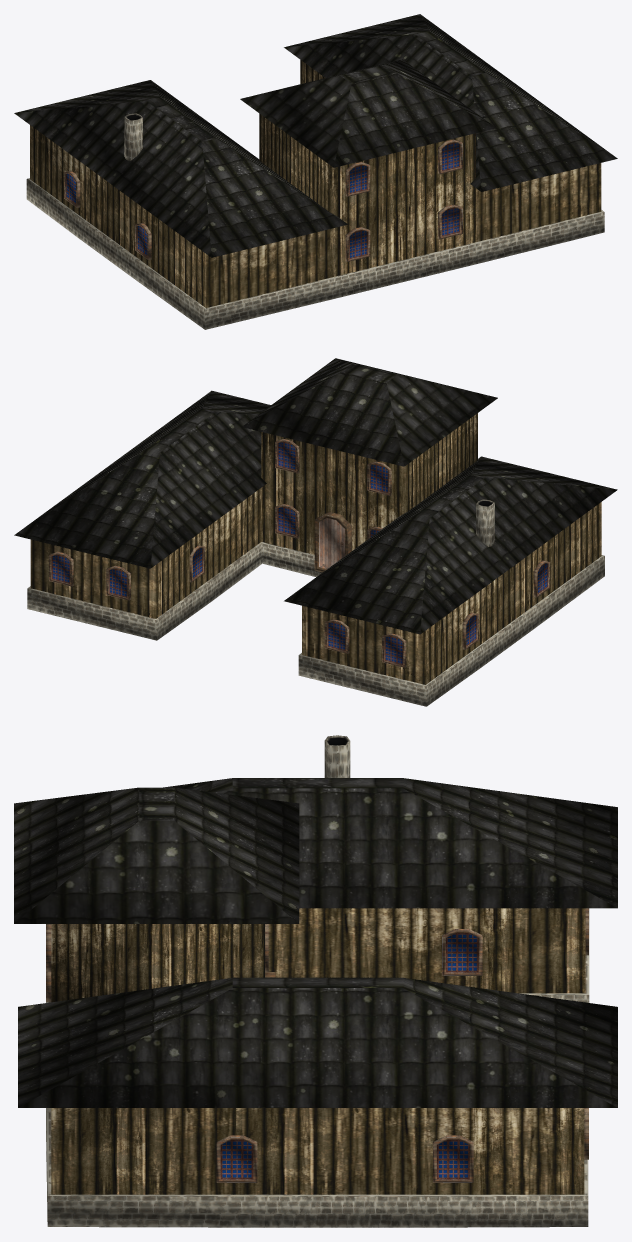
File: building-1.glb
3 views of the same model, one above another, from view 1: azimuth 30°, elevation 25°; view 2: azimuth 150°, elevation 25°; view 3: azimuth 270°, elevation 25° (orthographic). The views are drawn at different scales.
Visible parts, largest first — view 1: Building_1; view 2: Building_1; view 3: Building_1.
Boxes of the visible parts, x1=… form: Building_1: x1=14, y1=14, x2=617, y2=329; Building_1: x1=14, y1=358, x2=617, y2=706; Building_1: x1=14, y1=735, x2=617, y2=1227.
Size of the model in its own units: 13.34 by 5.67 by 11.31.
Materials: 3 (3 with a texture image).
